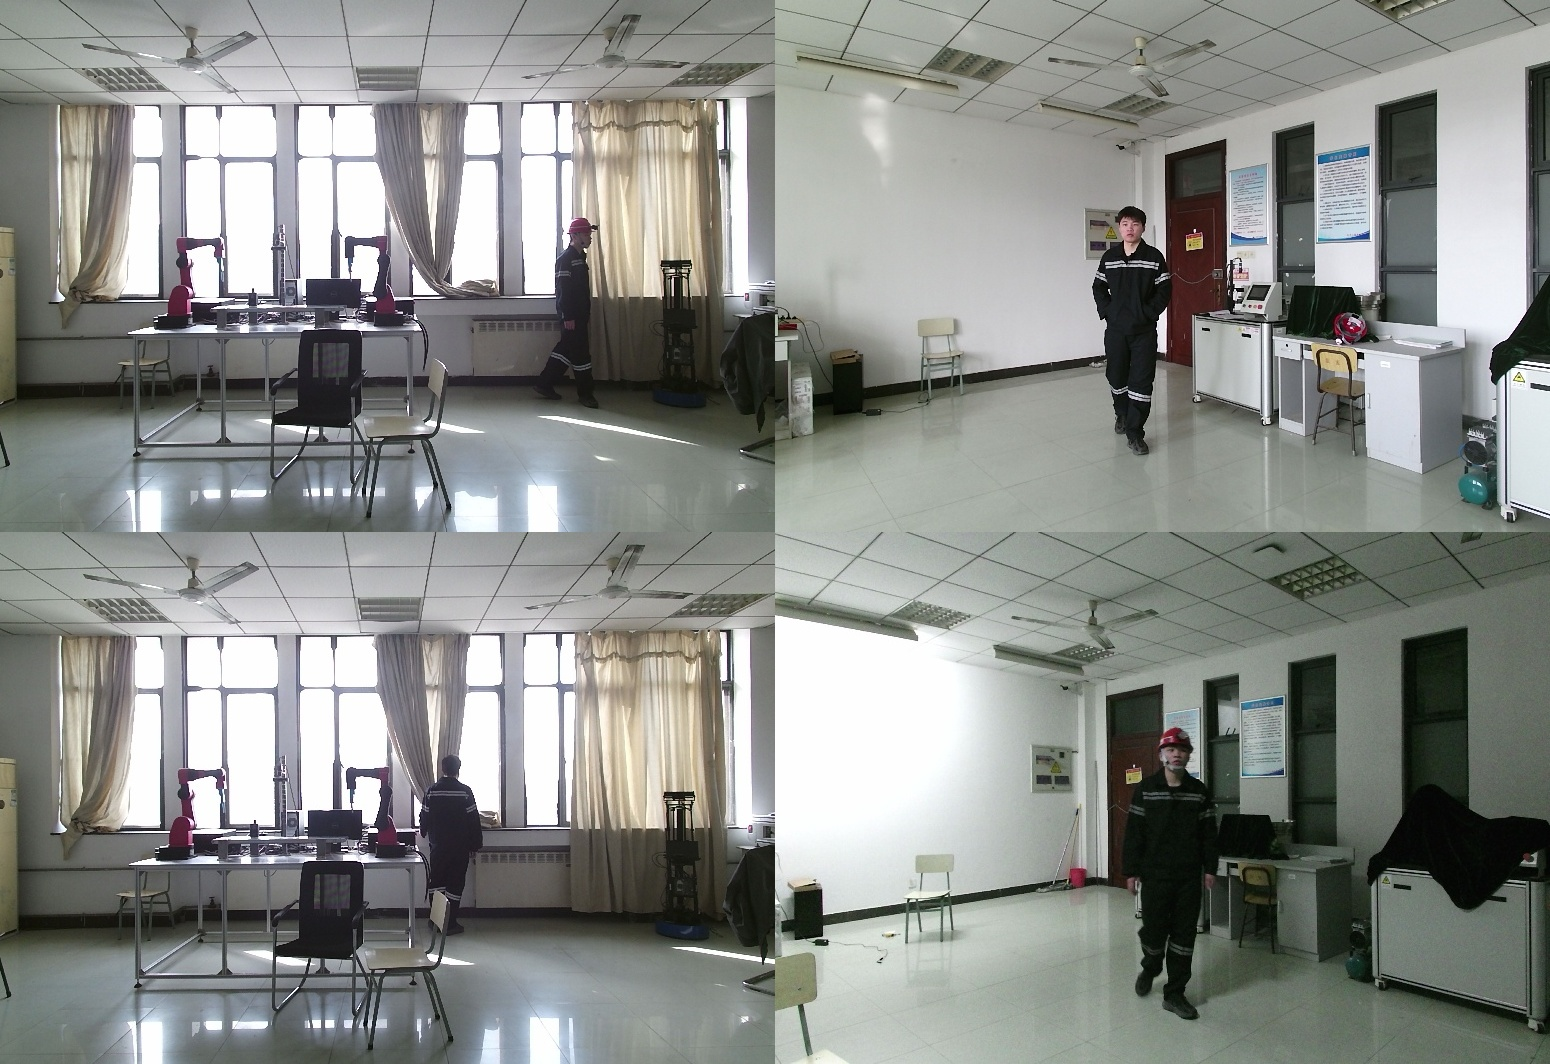person: (1119, 728, 1231, 1016), (1090, 207, 1177, 454), (538, 217, 604, 411), (418, 754, 483, 918)
